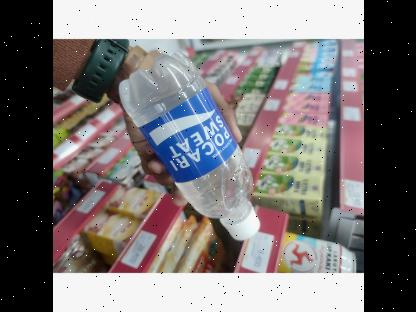Plastic Bottle: (117, 51, 259, 241)
